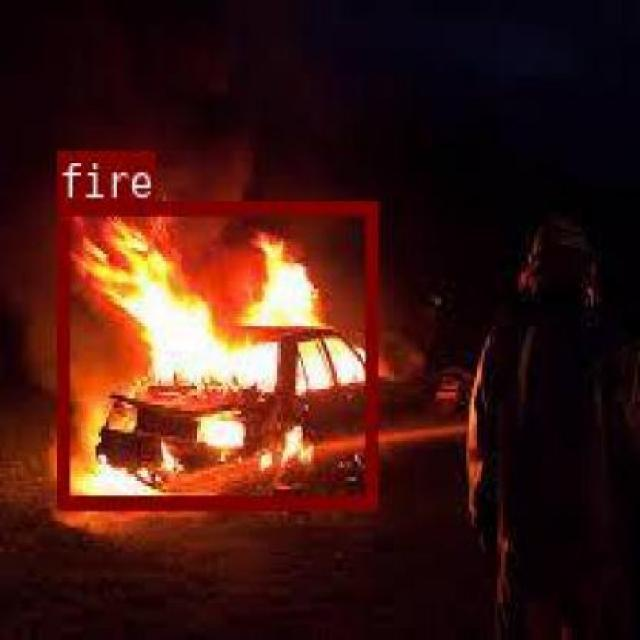Fire: (214, 308, 317, 352)
